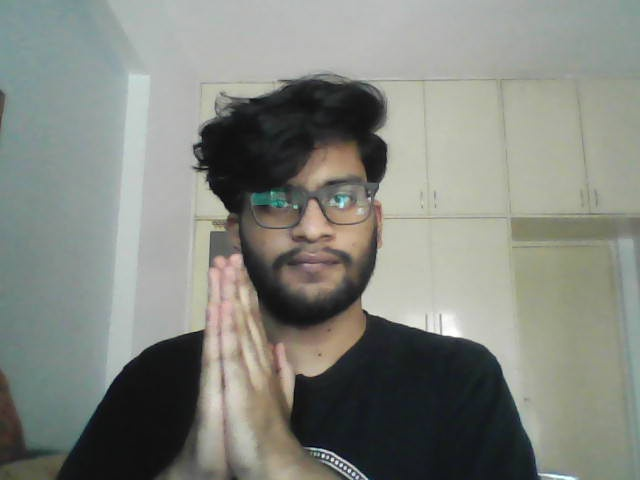Namaskara: (188, 250, 299, 480)
